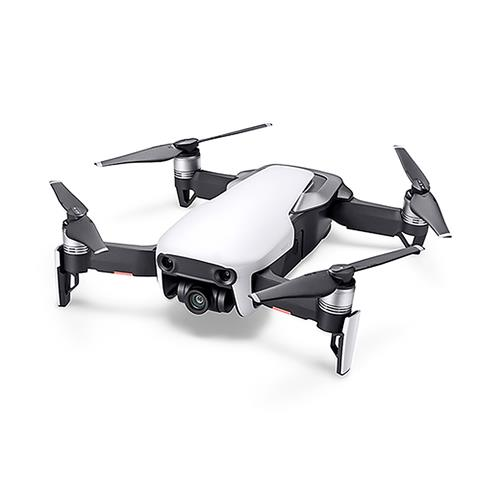drone: (42, 120, 463, 385)
